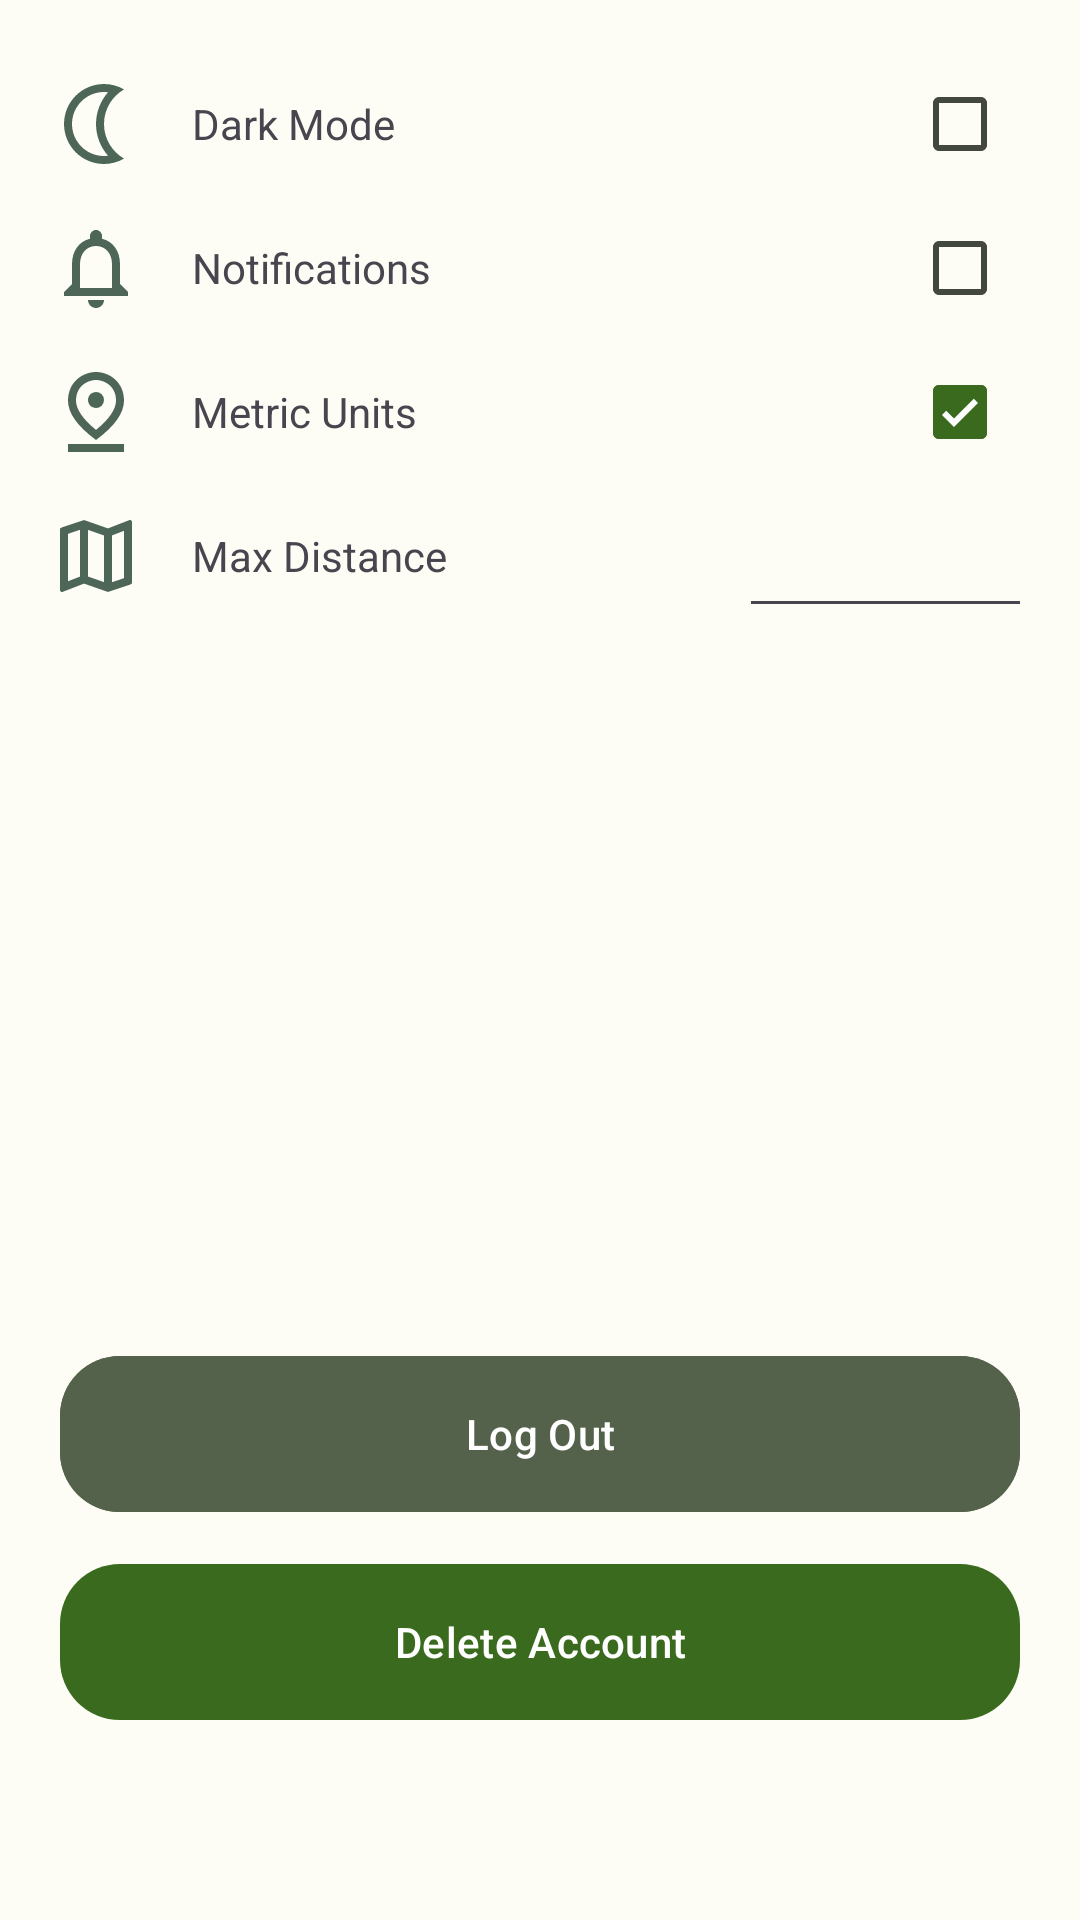

Named icons in this screenshot (1080w x 1920h) and their bounding boxes, (x1, y1, x2, y2):
map: (60, 520, 132, 592)
